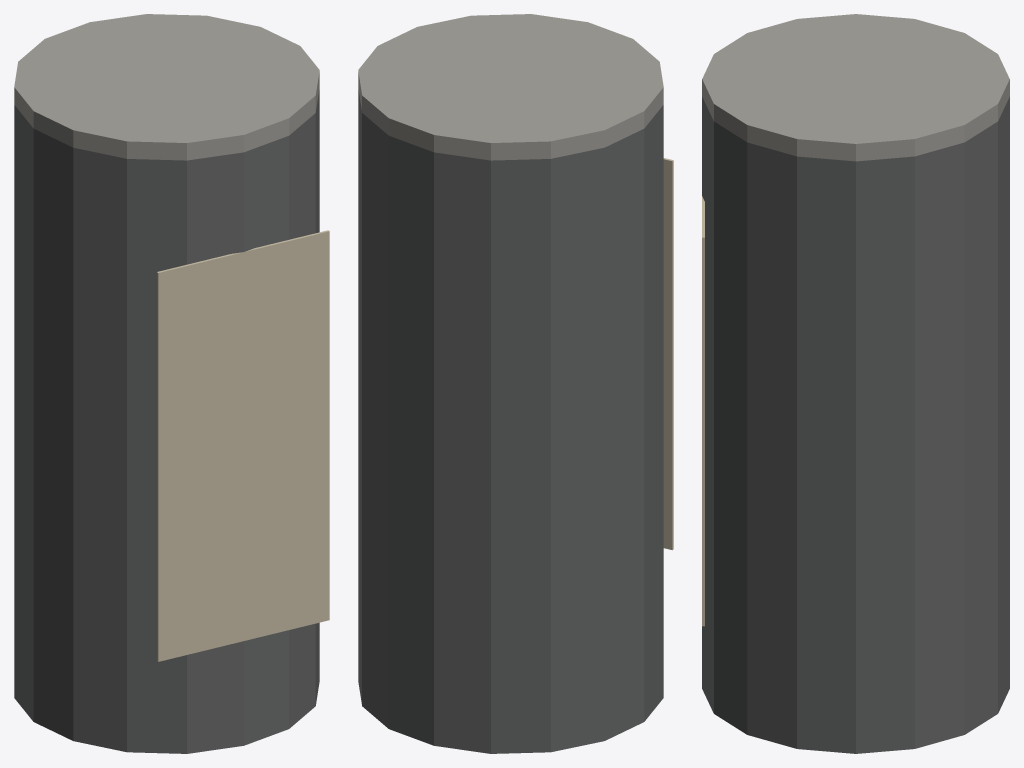
The model's file is coffee-storage-tin.glb.
3 renders of one model, left to right at view 1: azimuth 30°, elevation 25°; view 2: azimuth 150°, elevation 25°; view 3: azimuth 270°, elevation 25°, orthographic.
Parts seen in each view (by area): view 1: metal, paper, brushed; view 2: metal, brushed, paper; view 3: metal, brushed, paper.
Part boxes in pixels (bbox=[...]): metal: bbox=[14, 89, 319, 753]; paper: bbox=[157, 230, 329, 661]; brushed: bbox=[14, 14, 319, 160]; metal: bbox=[358, 89, 663, 753]; brushed: bbox=[358, 14, 663, 160]; paper: bbox=[663, 158, 673, 550]; metal: bbox=[702, 96, 1009, 753]; brushed: bbox=[702, 14, 1009, 161]; paper: bbox=[702, 196, 704, 626].
Bounding box in the file's own units: 0.112 × 0.245 × 0.112.
